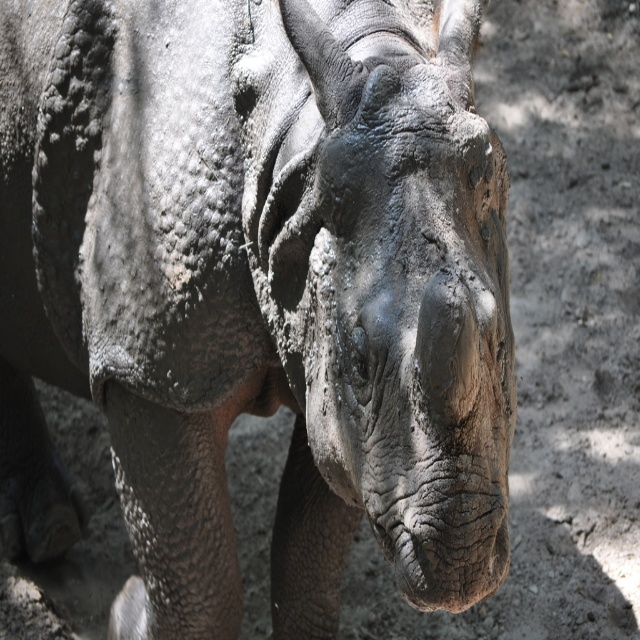Rhinoceros: (0, 0, 518, 639)
